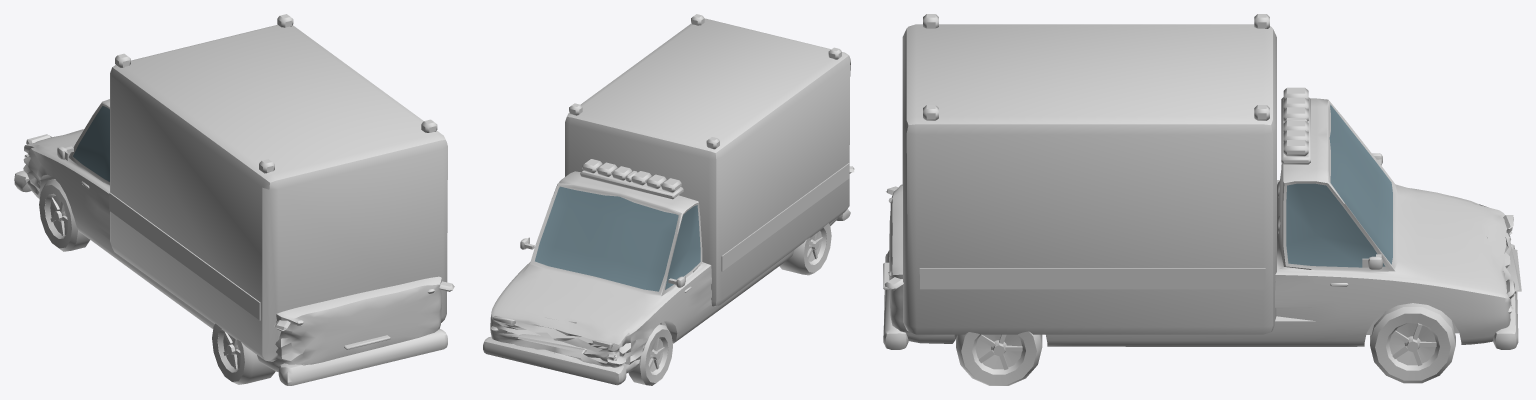
File: car_ambulance_dmg2.glb
The picture shows the model from 3 angles, left to right: view 1: azimuth 30°, elevation 25°; view 2: azimuth 150°, elevation 25°; view 3: azimuth 270°, elevation 25°; orthographic projection. The views are drawn at different scales.
Visible parts, largest first — view 1: car_ambulance_dmg2; view 2: car_ambulance_dmg2; view 3: car_ambulance_dmg2.
Part boxes in pixels (left/top/right/bottom): car_ambulance_dmg2: left=14, top=14, right=454, bottom=385; car_ambulance_dmg2: left=483, top=14, right=854, bottom=385; car_ambulance_dmg2: left=883, top=14, right=1521, bottom=385.
Size of the model in its own units: 2.24 by 2.7 by 5.63.
